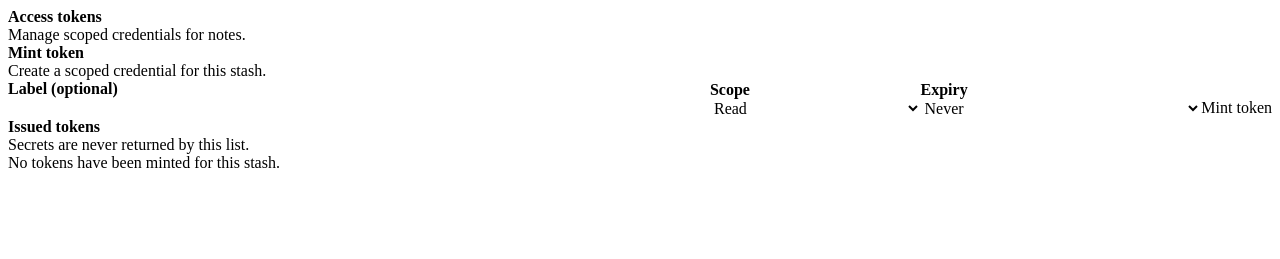
Test: TokensPanel › keeps a rejected custom expiry draft for correction
This screenshot has width=1280, height=259.
Expected: the text "No tokens have been minted for this stash." is shown, [8,154,280,171]
Select "Custom ISO" in the dropdown labelled "Expiry": (1061,108) [920,99,1201,118]
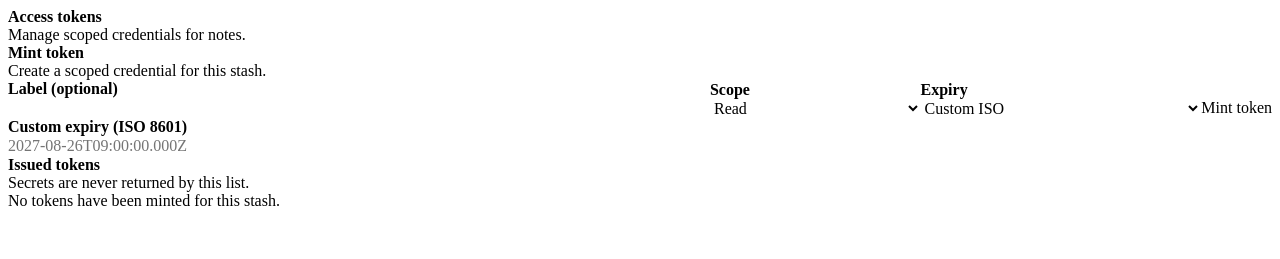
In the field labelled "Custom expiry (ISO 8601)": (640,146) [8,136,1272,156], type "not-an-iso-timestamp"
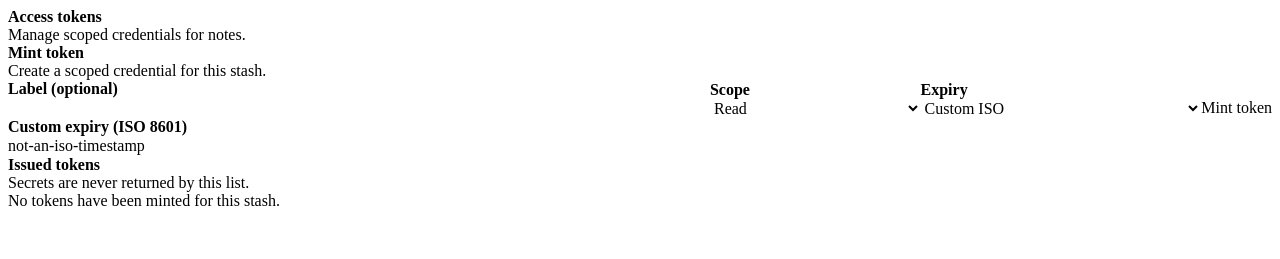
Click the button "Mint token": (1237,108) [1201,98,1272,118]
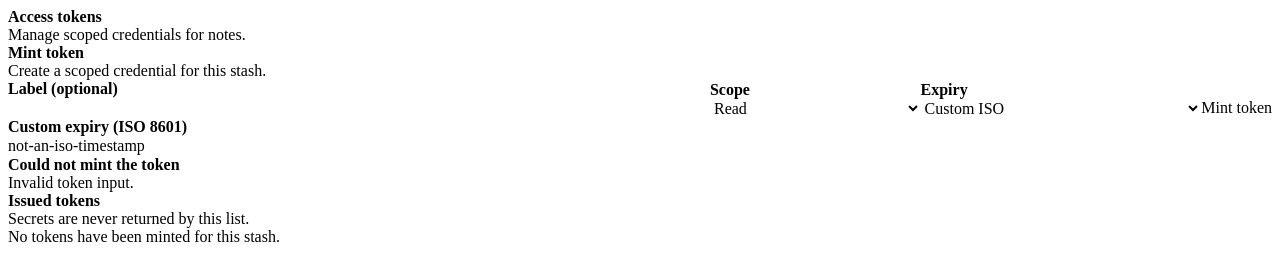
Expected: the text "Invalid token input." is shown, [8,174,134,191]
